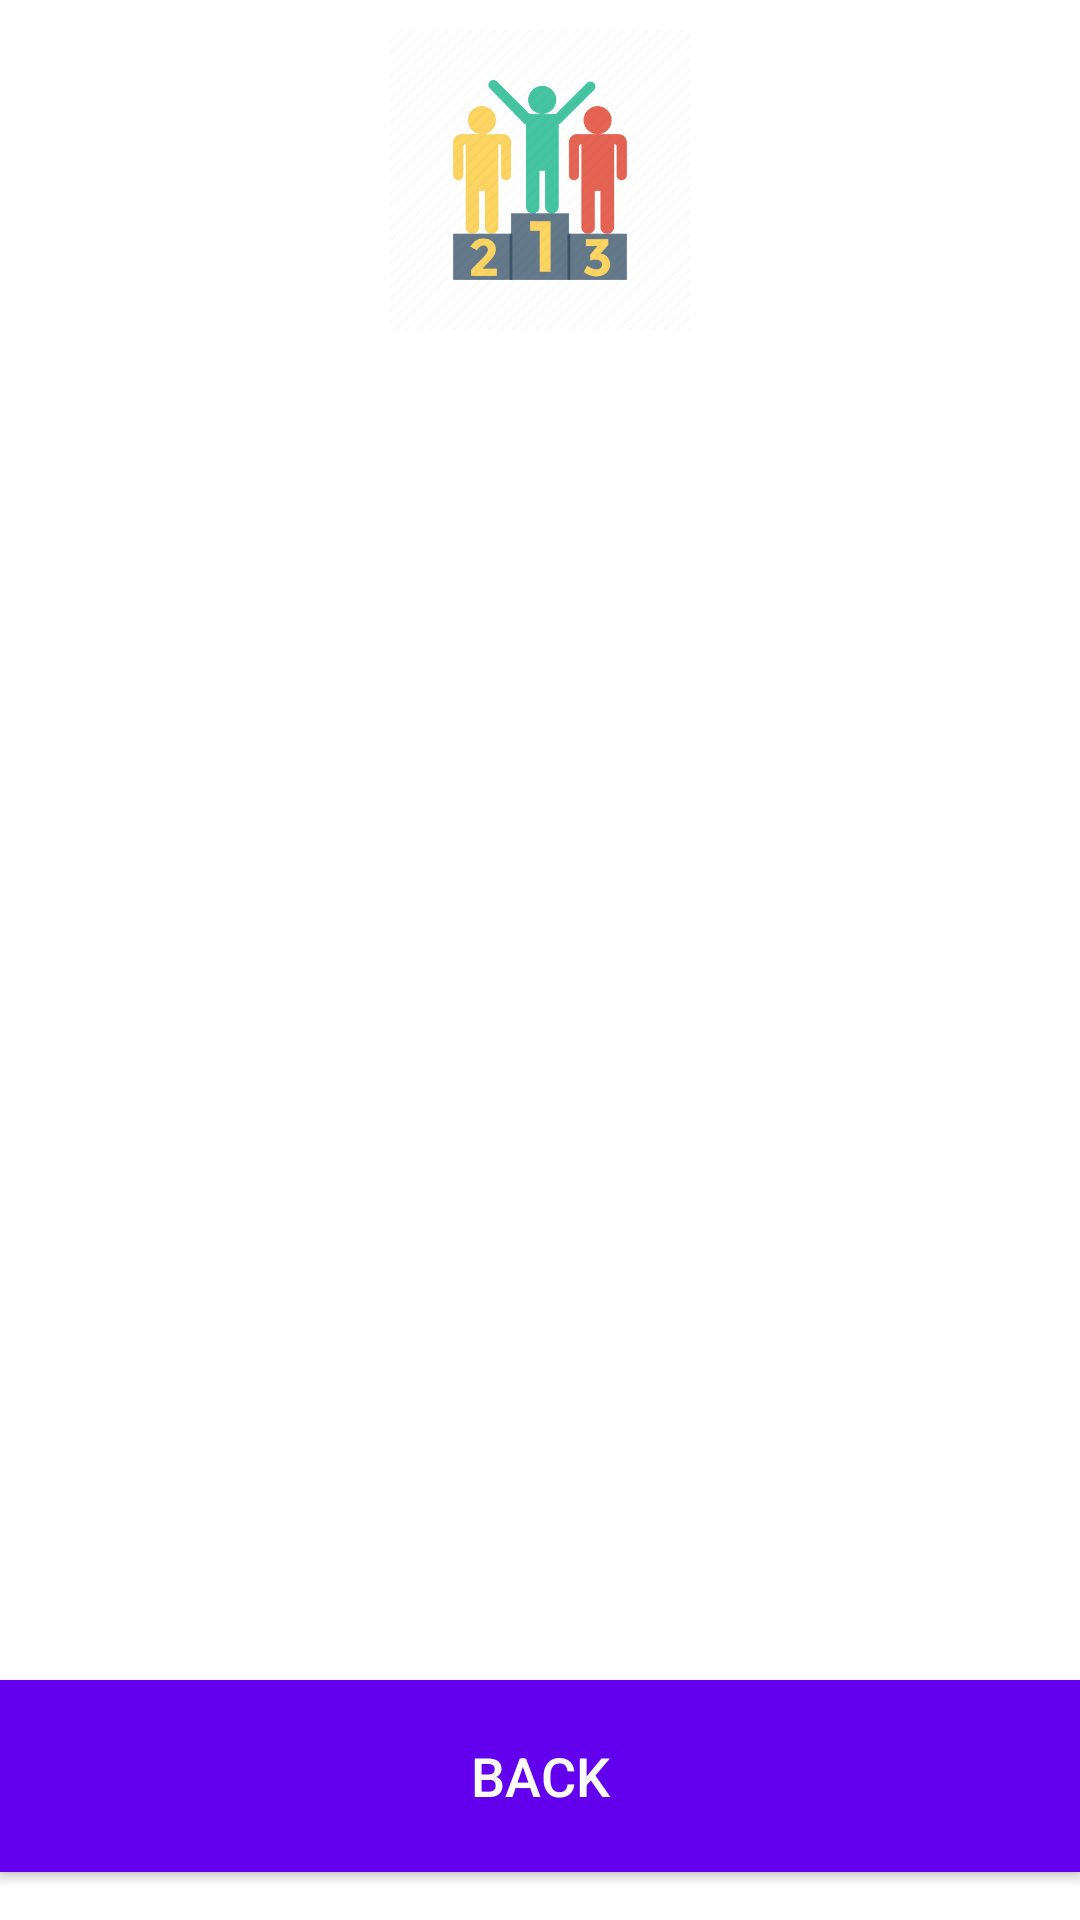

Icons on this 1080 × 1920 Android screen, each with the point to tap as [x,y]:
podium: [540,180]
